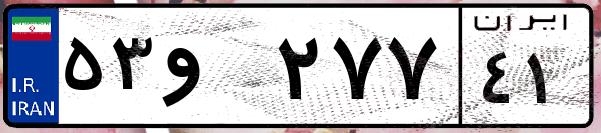1: (525, 38, 570, 115)
2: (270, 28, 330, 110)
3: (110, 28, 158, 98)
4: (475, 38, 525, 113)
5: (57, 26, 110, 100)
7: (385, 28, 445, 110), (330, 28, 385, 110)
و: (158, 20, 270, 120)
